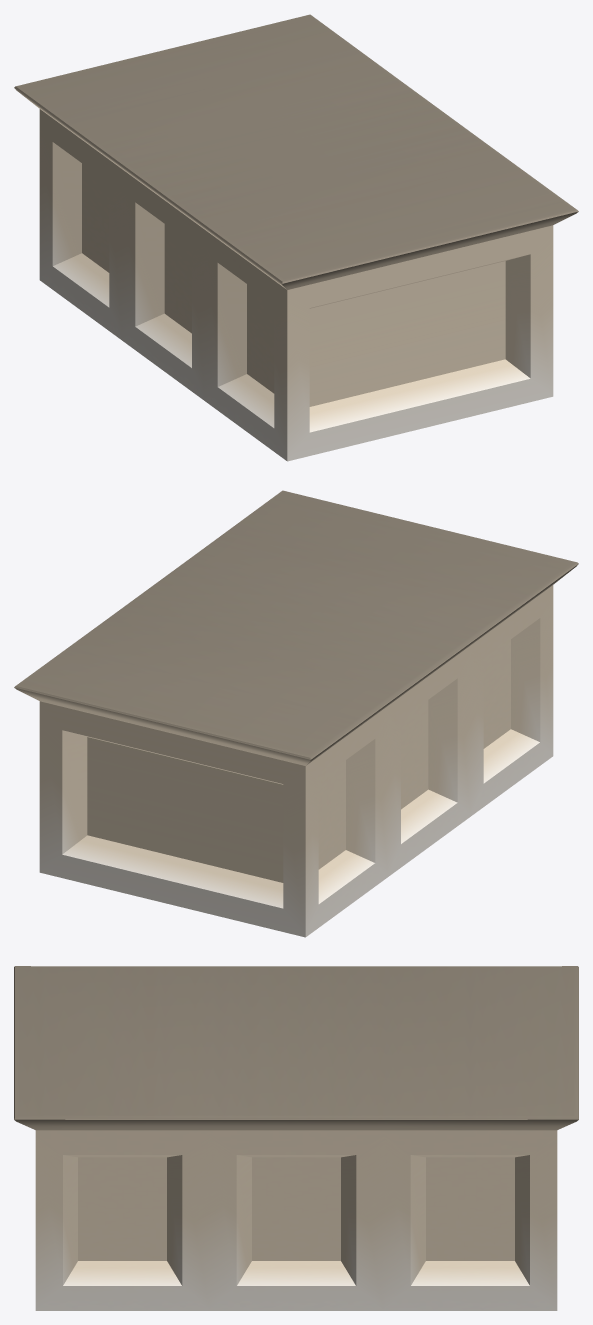
File: Altar.fbx
The picture shows the model from 3 angles, top to bottom: view 1: azimuth 30°, elevation 25°; view 2: azimuth 150°, elevation 25°; view 3: azimuth 270°, elevation 25°; orthographic projection. The views are drawn at different scales.
Parts seen in each view (by area): view 1: Altar; view 2: Altar; view 3: Altar.
Part boxes in pixels (x1,y1,x2,y2): Altar: (14, 14, 578, 461); Altar: (14, 490, 578, 937); Altar: (14, 966, 578, 1310).
Size of the model in its own units: 138 by 85.06 by 217.
